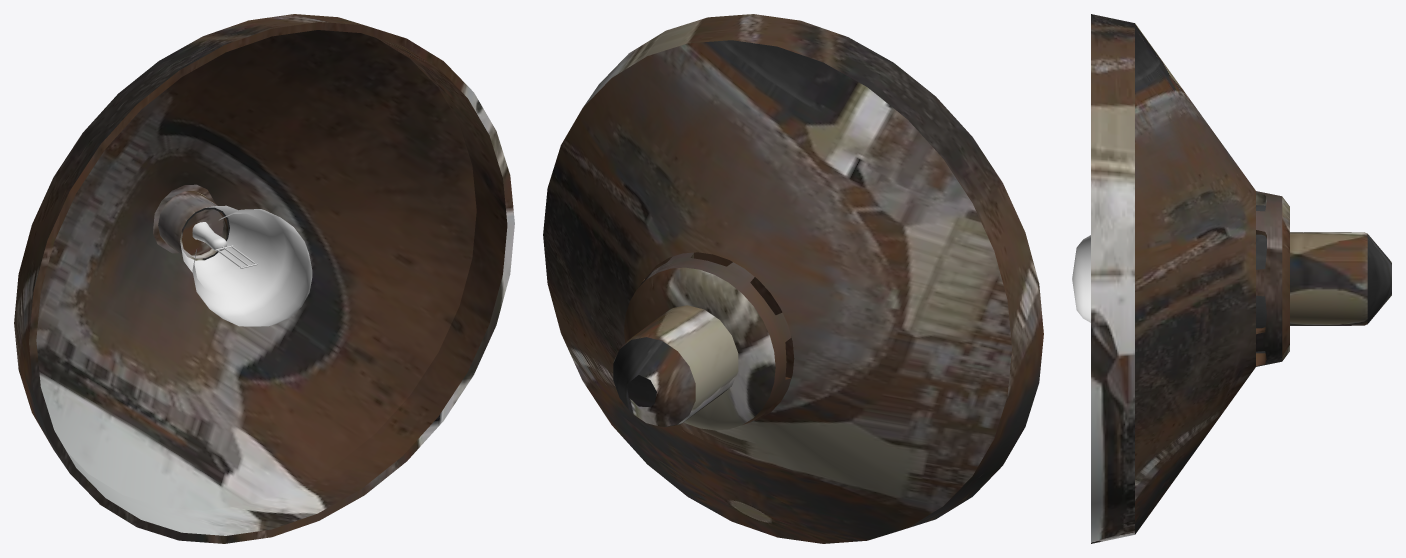
File: cinelight_spot_red.glb
The picture shows the model from 3 angles, left to right: view 1: azimuth 30°, elevation 25°; view 2: azimuth 150°, elevation 25°; view 3: azimuth 270°, elevation 25°; orthographic projection. The views are drawn at different scales.
Parts seen in each view (by area): view 1: industrial.ceiling.lamp.compact_LOD0; view 2: industrial.ceiling.lamp.compact_LOD0; view 3: industrial.ceiling.lamp.compact_LOD0.
Part boxes in pixels (x1,y1,x2,y2): industrial.ceiling.lamp.compact_LOD0: [14, 14, 514, 543]; industrial.ceiling.lamp.compact_LOD0: [543, 14, 1043, 543]; industrial.ceiling.lamp.compact_LOD0: [1072, 14, 1391, 543].
Bounding box in the file's own units: 0.6027 × 0.6027 × 0.3633.
Materials: 1 (1 with a texture image).
